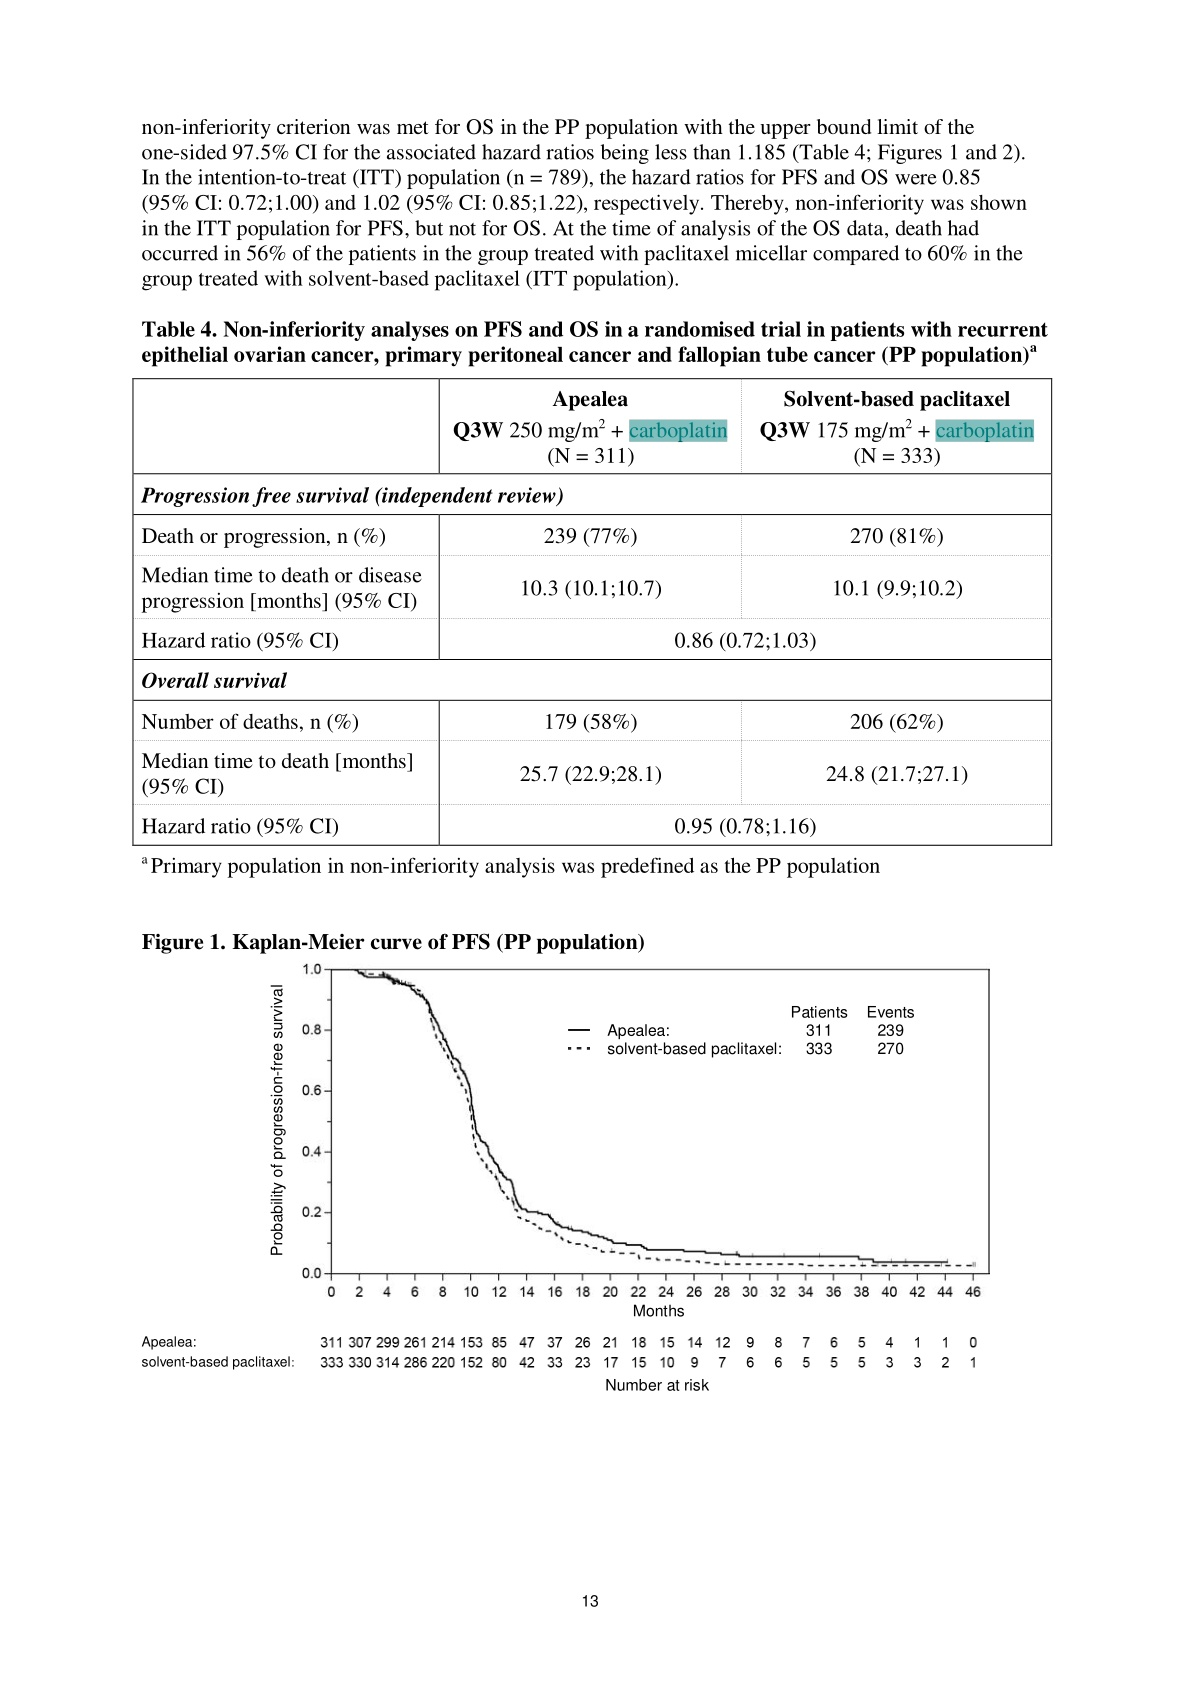merged_cells: (131, 378, 1053, 847)
nolines: (138, 1330, 980, 1373)
